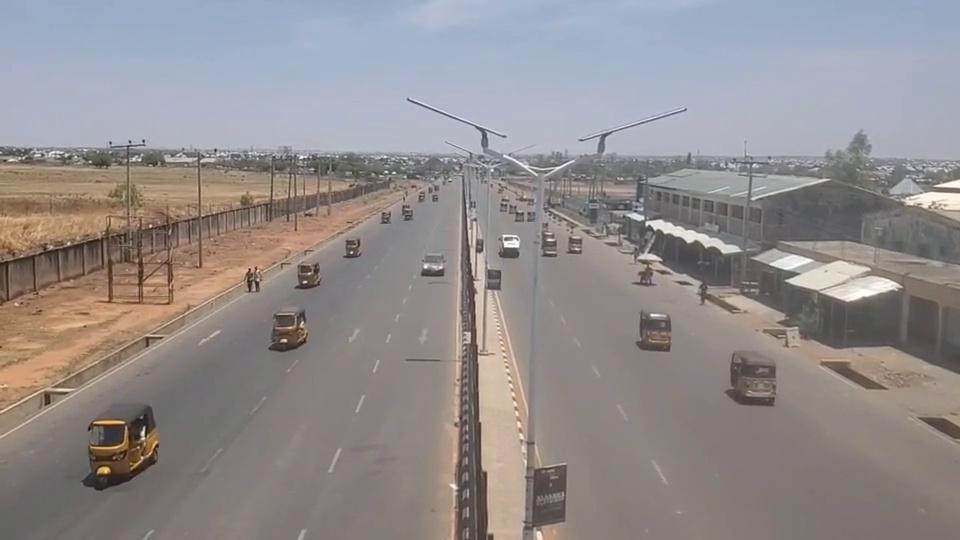keke: (86, 402, 159, 480), (729, 349, 776, 404), (270, 306, 308, 349), (638, 309, 671, 351)
